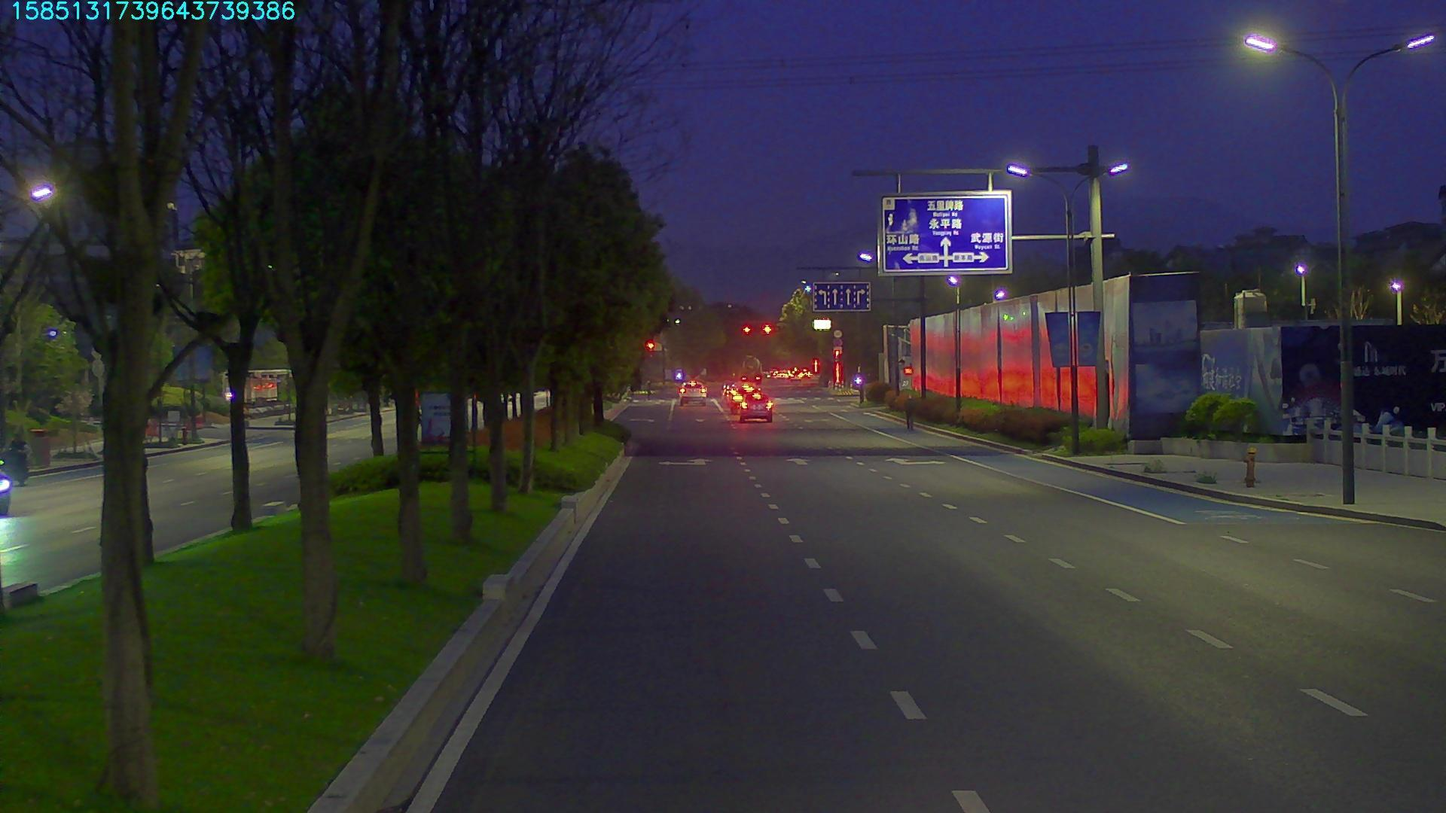red: (761, 321, 776, 340), (740, 320, 755, 336)
